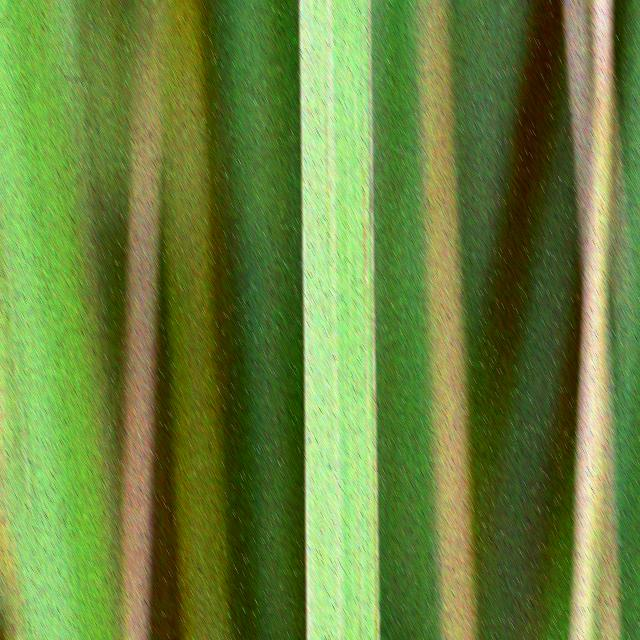BLS: (368, 0, 379, 640), (362, 61, 367, 461), (358, 488, 360, 640), (304, 0, 307, 74)
